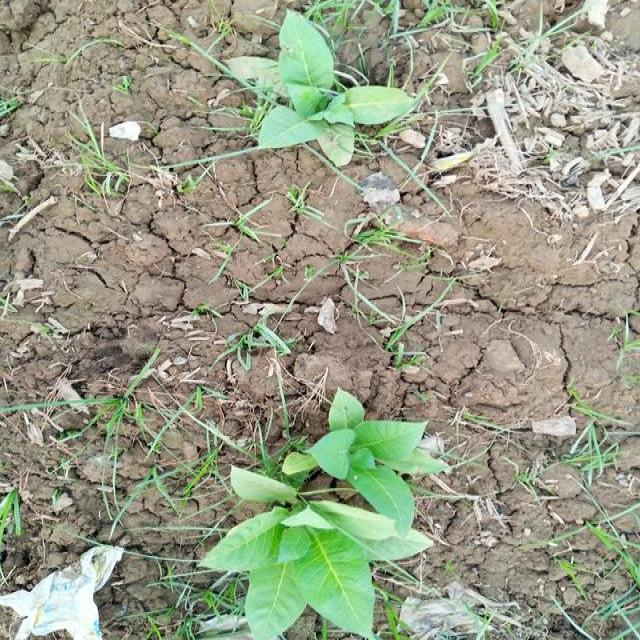crop: (212, 395, 439, 640), (232, 20, 410, 168)
